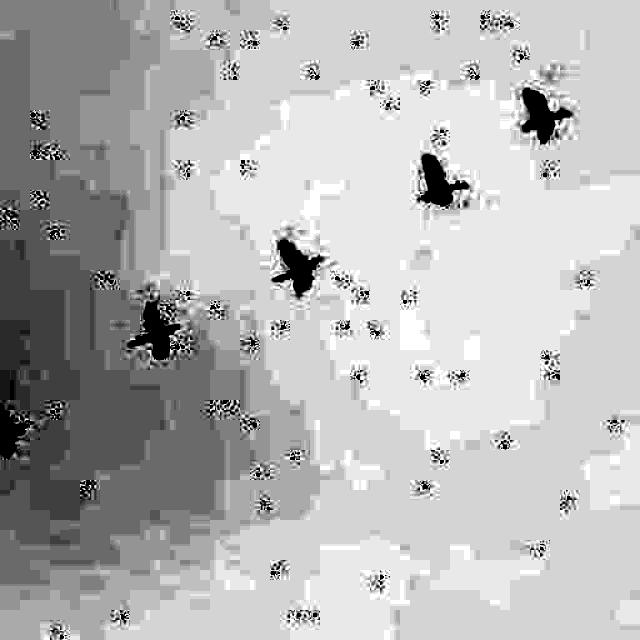airplane: (514, 79, 578, 148), (119, 298, 185, 364), (265, 230, 329, 298), (409, 144, 472, 210), (0, 395, 31, 459)
